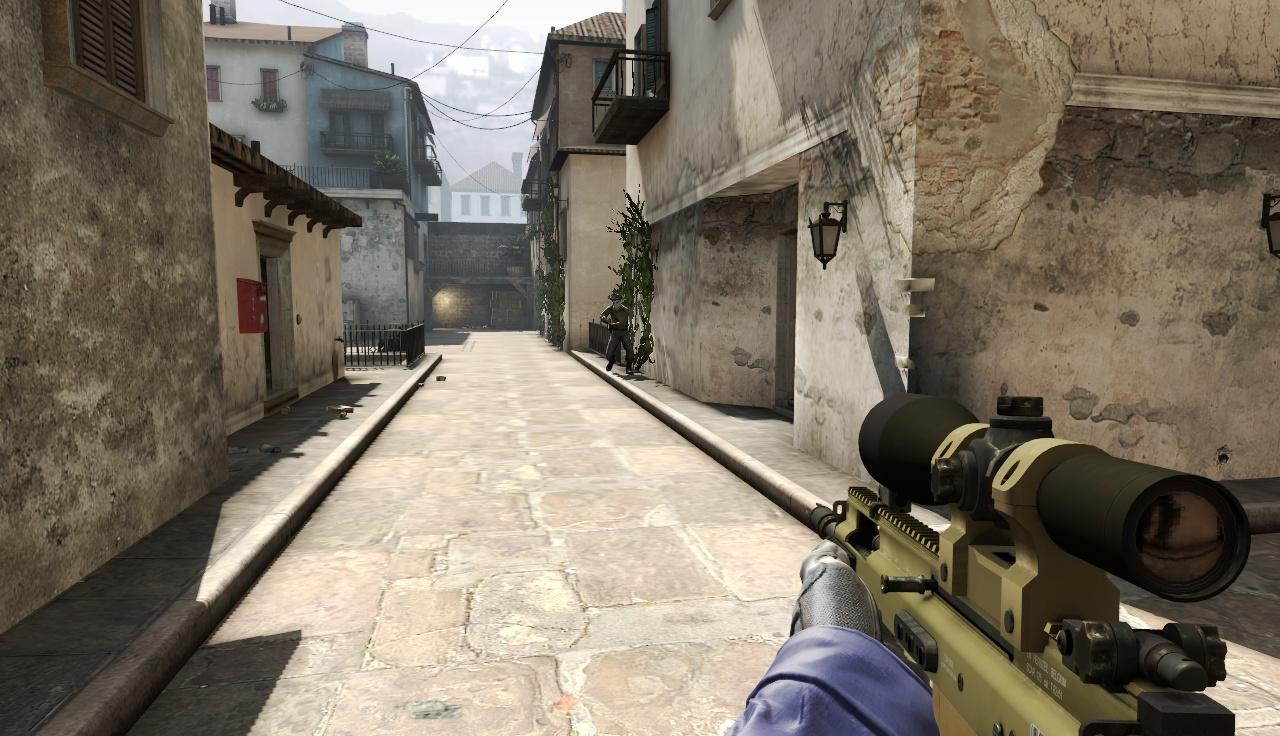rifle: (811, 394, 1255, 736)
tt: (605, 296, 633, 375)
tthead: (610, 297, 622, 310)
